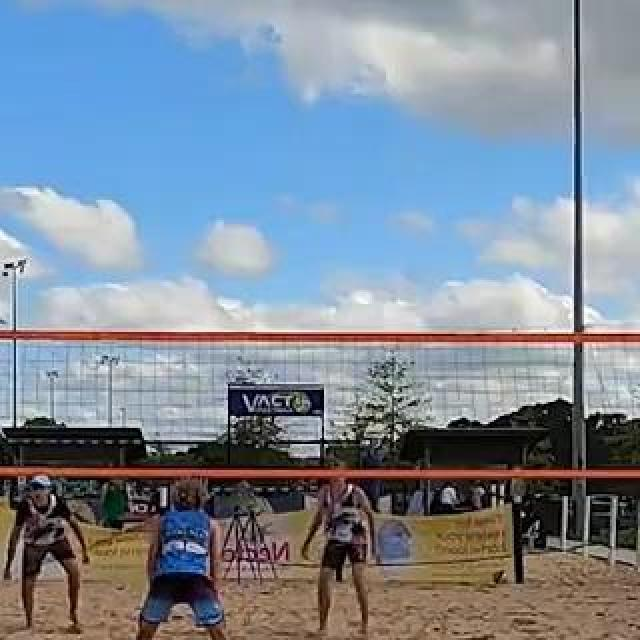volleyball: (492, 568, 510, 584)
